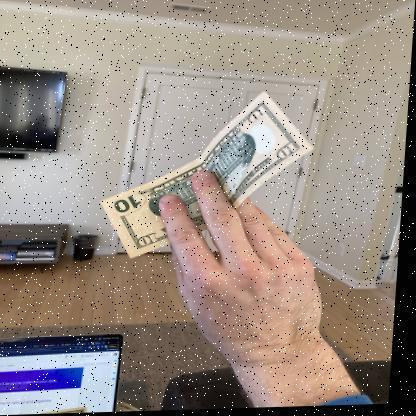ten-back: (102, 92, 318, 261)
